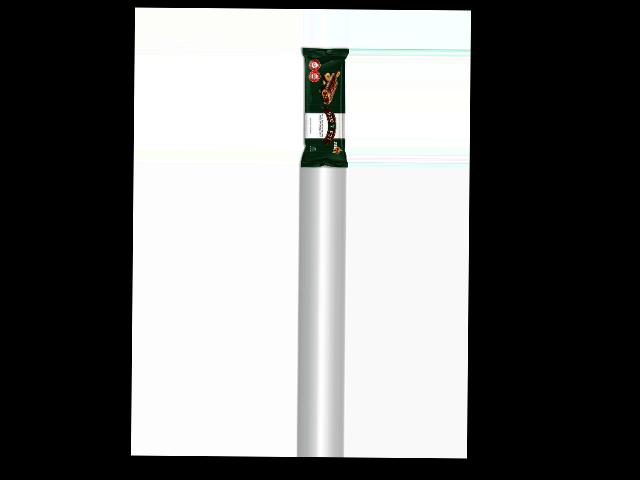chocolate: (298, 47, 348, 169)
